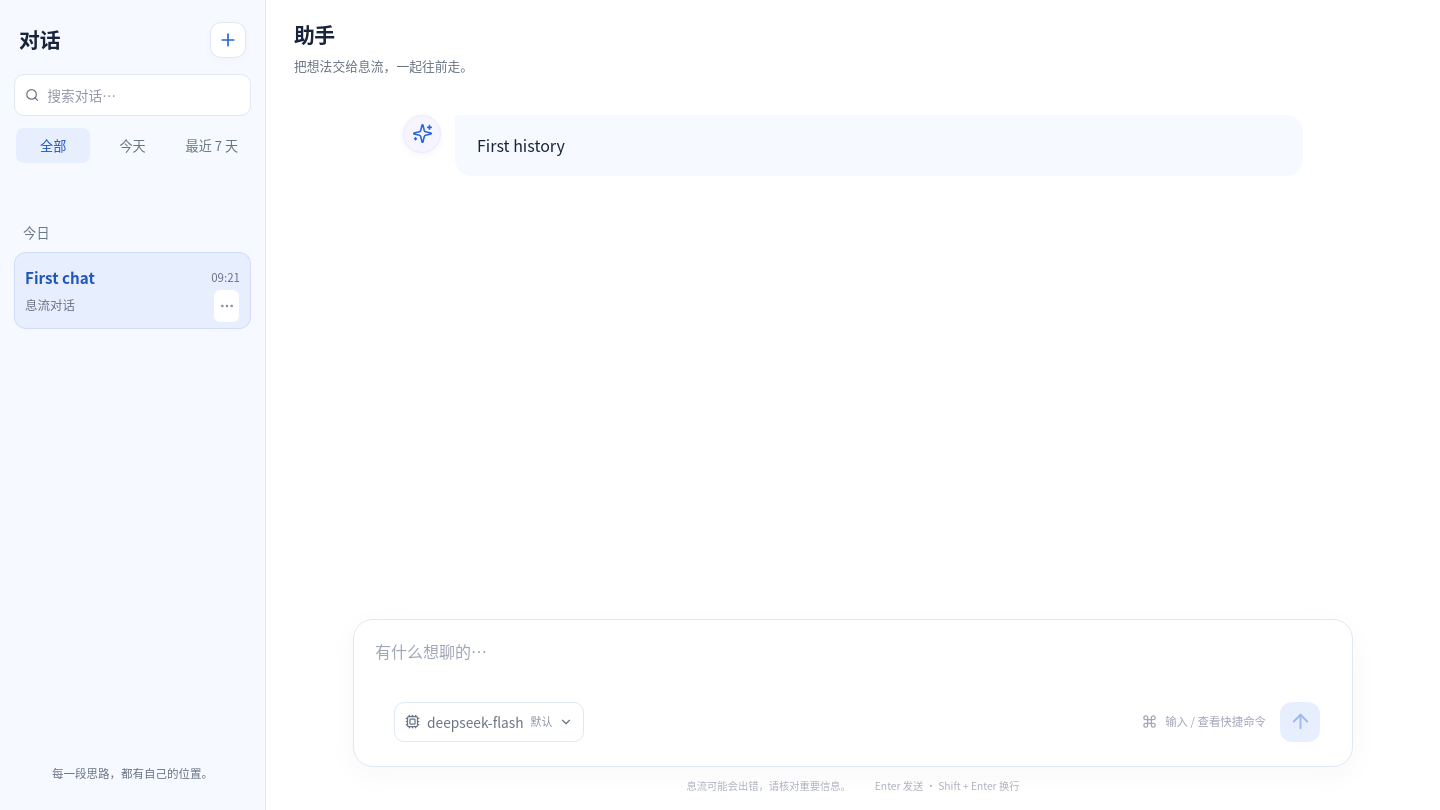
Test: new conversation appears in list and selected history reloads
Expected: the text "First history" is shown, [477,133,565,157]
Click the button named "创建新对话" at (228, 40), box [210,22,246,58]
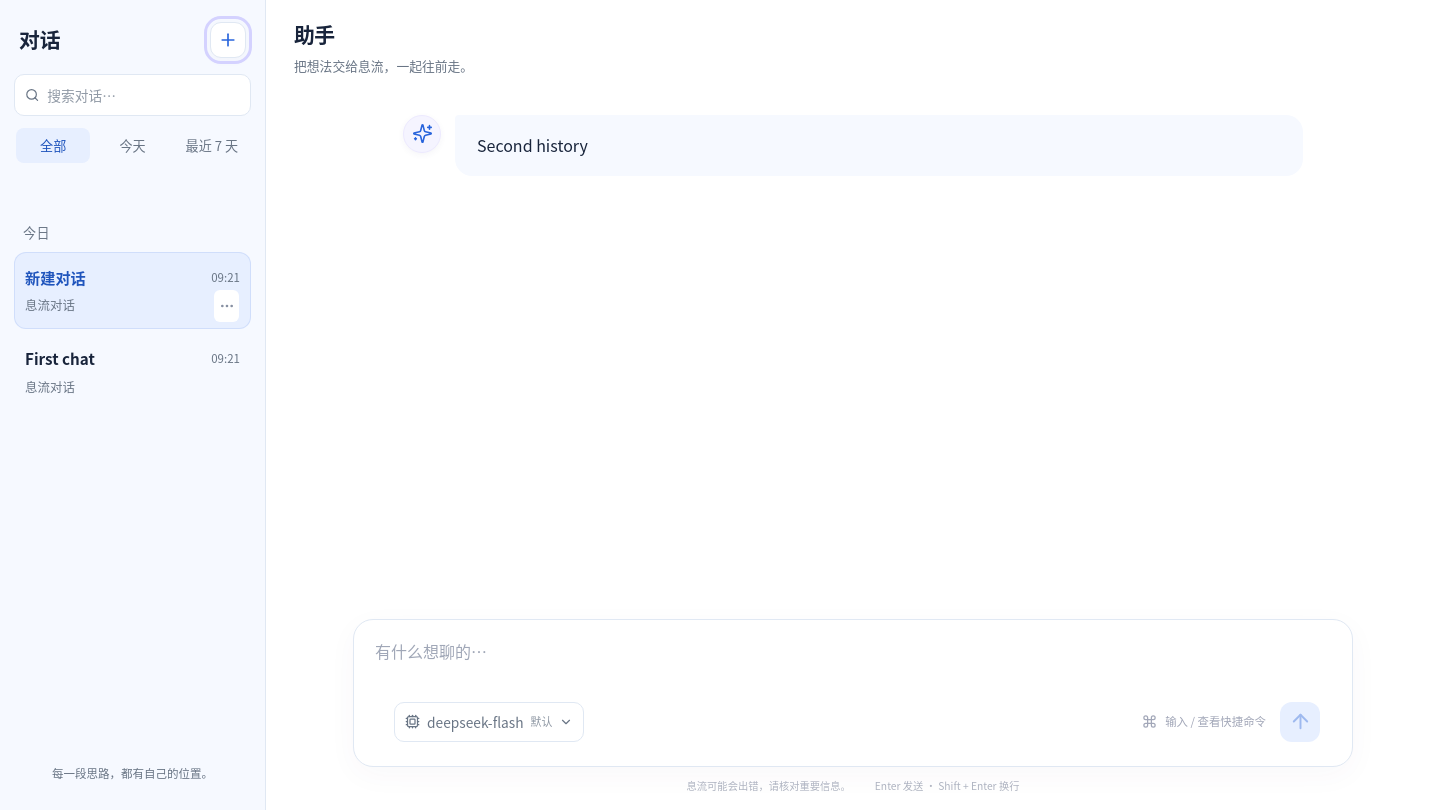
Result: the button "新建对话 息流对话 09:21" is shown at [15,253,250,328]
Result: the text "Second history" is shown at [477,133,588,157]
Click the button "First chat 息流对话 09:21" at (132, 372), box [15,334,250,410]
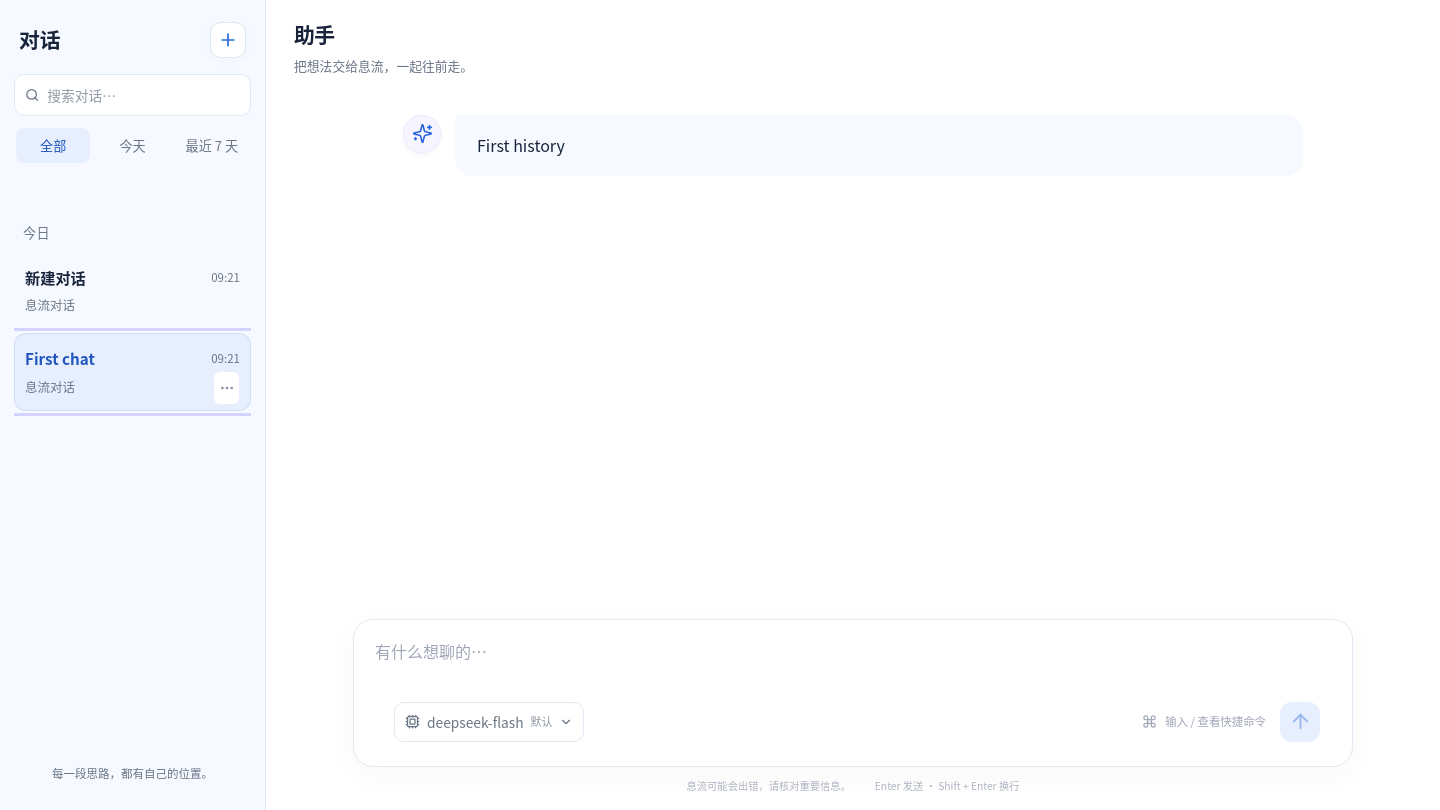
Result: the text "First history" is shown at [477,133,565,157]
